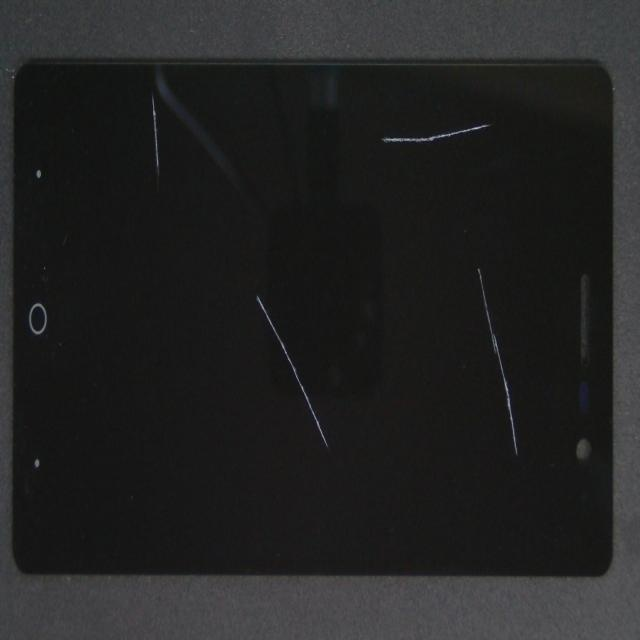scratch: (218, 323, 478, 590), (72, 0, 215, 175)
